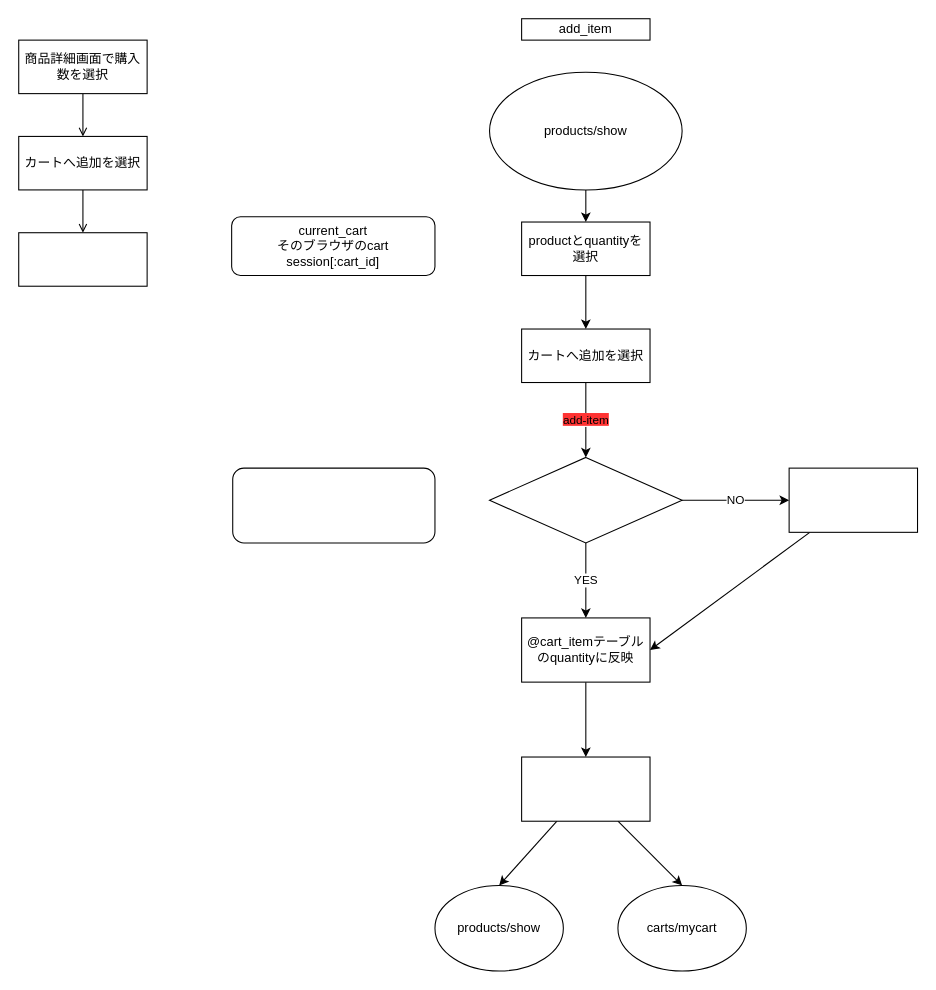
Some shapes in this 936 by 990 pixel diagram are drawn without their labels. Here are the shapes that lost their labels. From the top down, the centre of each, then its label:
point 82,259: ユーザーのカート画面へ遷移
point 333,505: @cart_item current_cart内の選択した商品
point 585,499: @cart_itemが空の場合
point 853,499: cart_itemテーブルを作成
point 585,788: @cart_item.save
